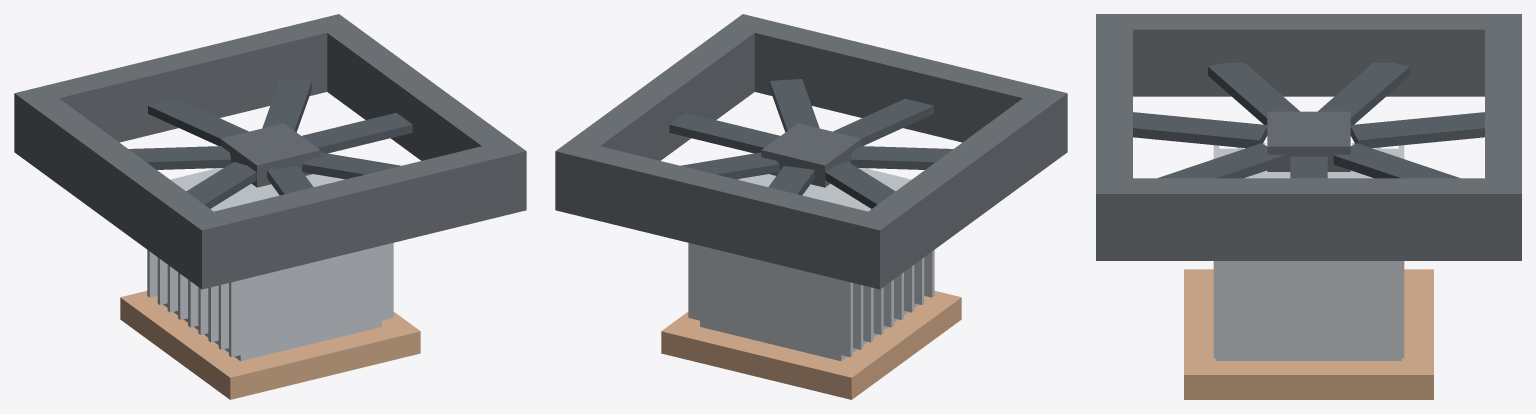
The model's file is cooler-bajo-58.glb.
The picture shows the model from 3 angles, left to right: view 1: azimuth 30°, elevation 25°; view 2: azimuth 150°, elevation 25°; view 3: azimuth 270°, elevation 25°; orthographic projection. The views are drawn at different scales.
Parts seen in each view (by area): view 1: marco, disipador, rotor, base, nucleo; view 2: marco, disipador, rotor, base, nucleo; view 3: marco, disipador, rotor, base, nucleo.
Boxes of the visible parts, x1,y1,x2,y2 form: marco: (14,14,526,289); disipador: (147,168,393,361); rotor: (128,79,412,208); base: (120,291,420,399); nucleo: (220,123,320,187); marco: (555,14,1067,289); disipador: (688,168,934,361); rotor: (669,79,953,208); base: (661,291,961,399); nucleo: (761,123,861,187); marco: (1096,14,1521,260); disipador: (1213,143,1404,360); rotor: (1133,62,1484,178); base: (1184,269,1433,399); nucleo: (1267,111,1350,171).
Size of the model in its own units: 0.092 by 0.058 by 0.092.
